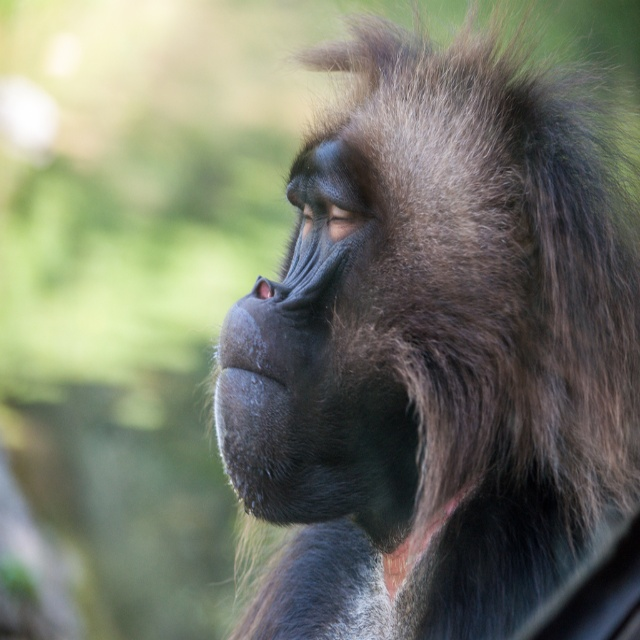Monkey: (192, 0, 640, 640)
